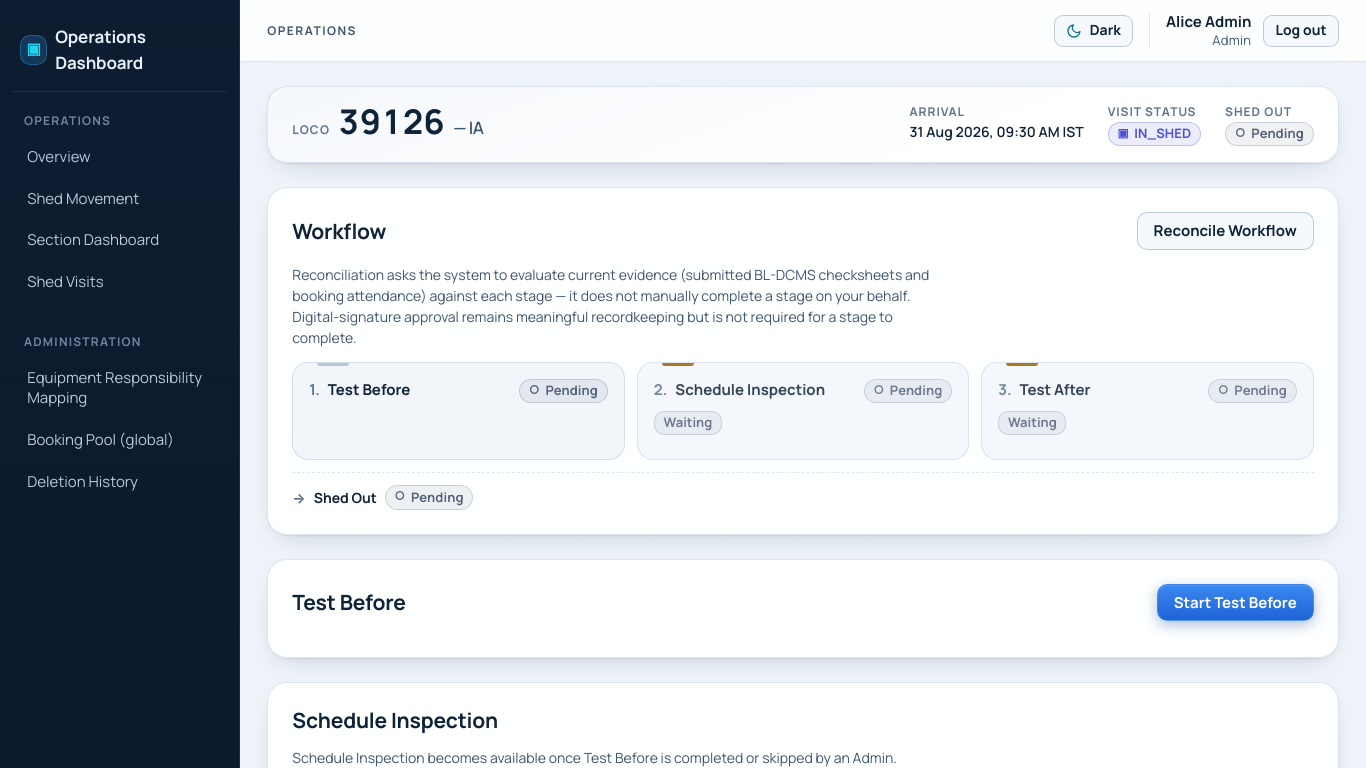
ShedVisitWorkflowPage › requires confirmation before starting, then moves TEST_BEFORE to IN_PROGRESS
Click the button "Start Test Before".
click(1235, 602)  # box [1157,584,1314,621]
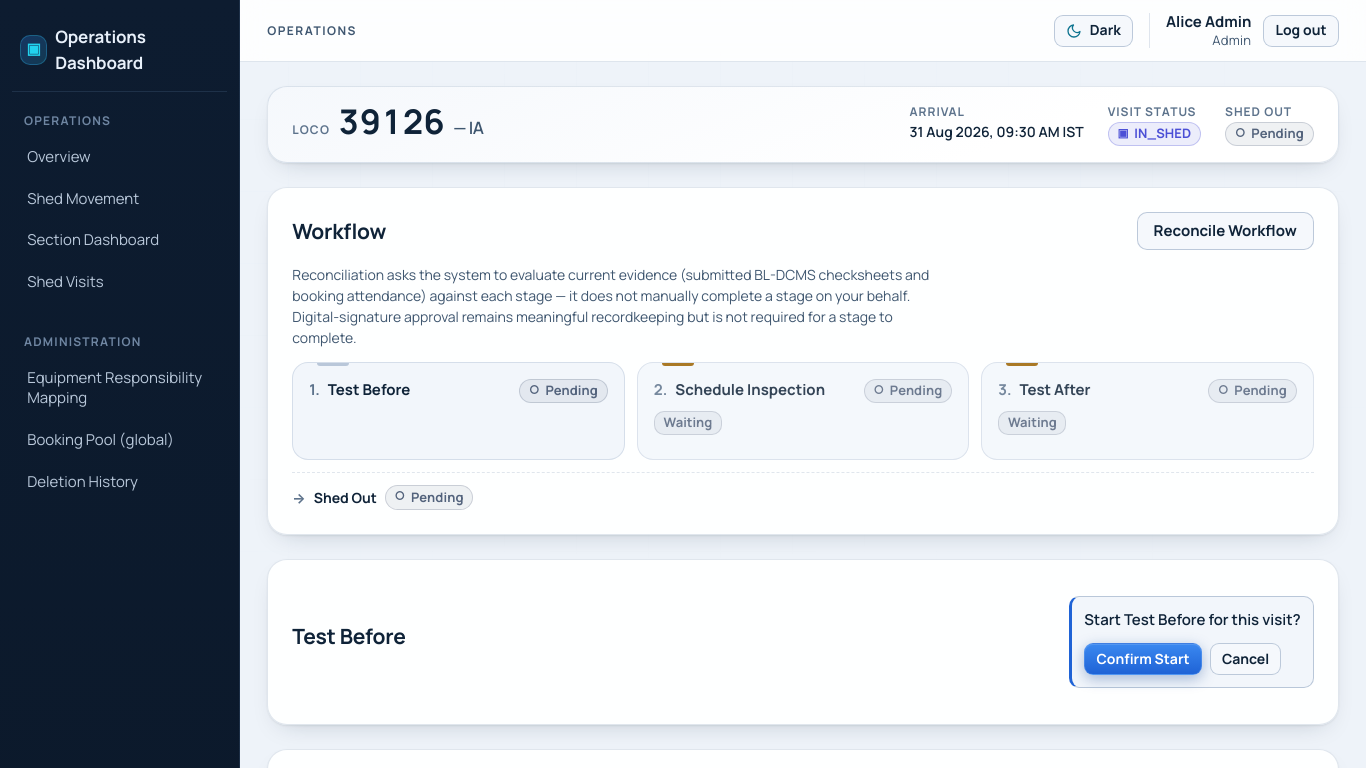
Now the text "Start Test Before for this visit?" is shown, box [1084,608,1301,631]
Click the button "Confirm Start".
click(1143, 659)  # box [1084,643,1202,675]
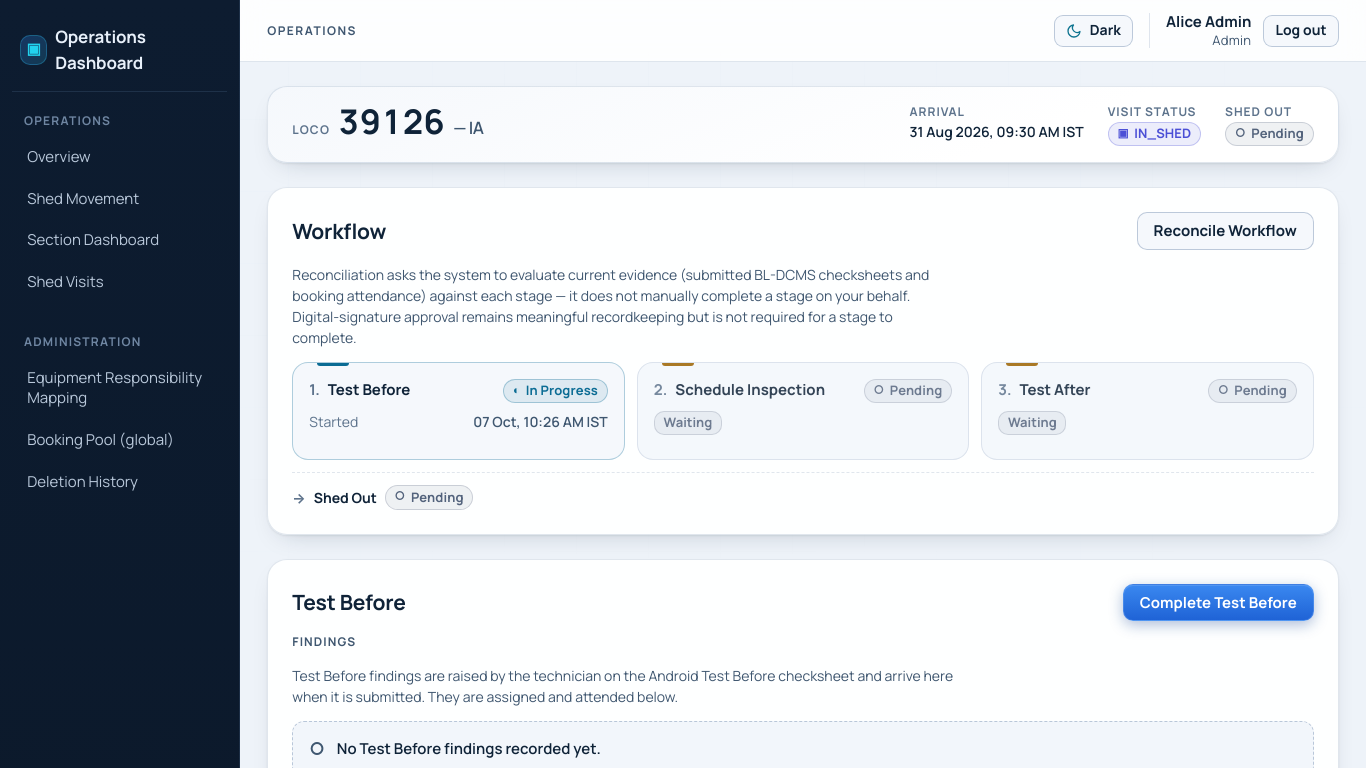
Now the text "In Progress" is shown, box [526,382,598,399]
Now the text "raised by the technician on the Android Test Before checksheet" is shown, box [292,666,953,706]
